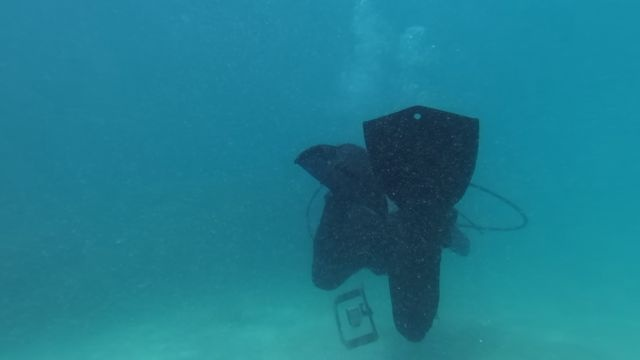Diver: (273, 98, 521, 353)
